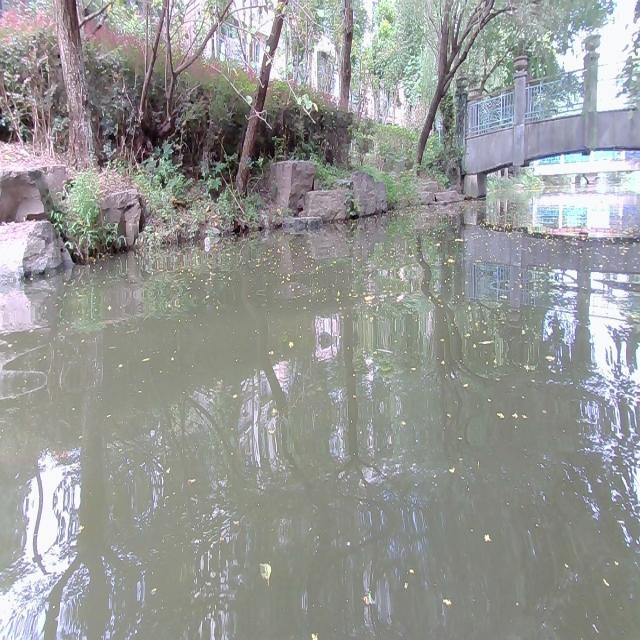bottle: (202, 233, 212, 246)
